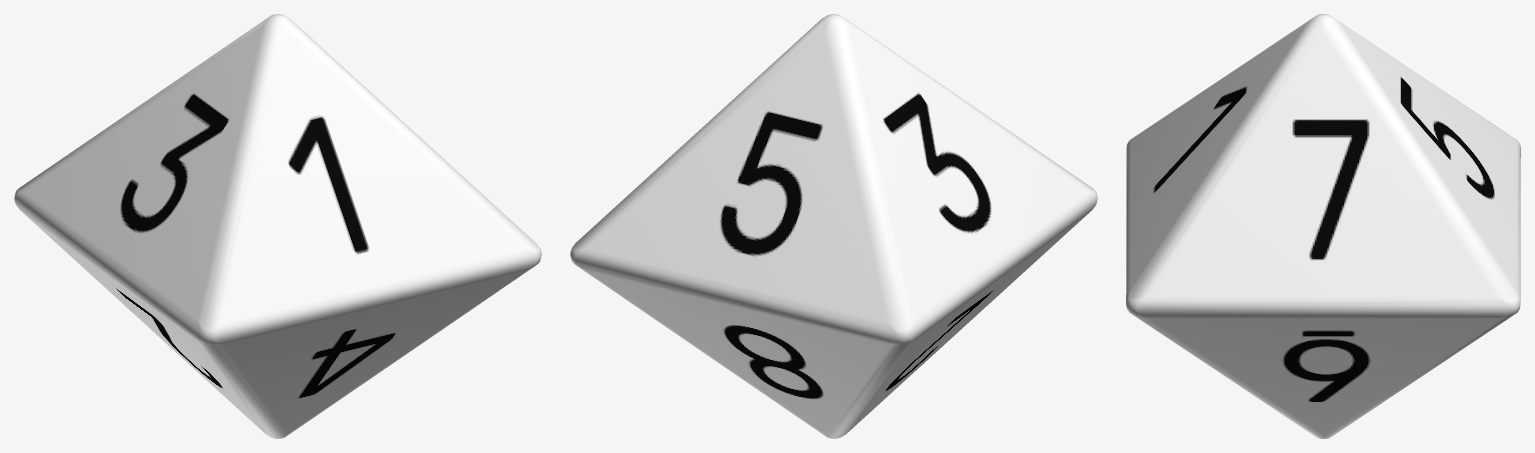
Rendered from D8_Vol.FBX.
3 views of the same model, side by side, from view 1: azimuth 30°, elevation 25°; view 2: azimuth 150°, elevation 25°; view 3: azimuth 270°, elevation 25° (orthographic).
Visible parts, largest first — view 1: Dado8Numb; view 2: Dado8Numb; view 3: Dado8Numb.
Boxes of the visible parts, left/top/right/bottom form: Dado8Numb: left=14, top=14, right=541, bottom=438; Dado8Numb: left=570, top=14, right=1097, bottom=438; Dado8Numb: left=1126, top=14, right=1520, bottom=438.
Size of the model in its own units: 223 by 263 by 223.
